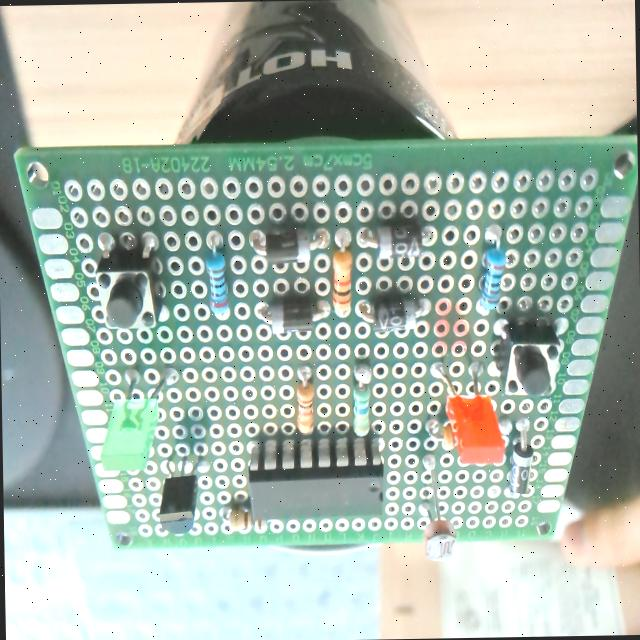IC: (246, 443, 386, 524)
cds: (418, 453, 457, 562)
diode: (256, 296, 330, 334), (253, 226, 324, 265), (357, 296, 429, 334), (356, 222, 422, 259), (508, 415, 534, 495)
led: (100, 367, 174, 472), (434, 356, 504, 464)
resistor: (347, 364, 376, 439), (477, 245, 508, 315), (292, 366, 320, 441), (330, 232, 353, 314), (205, 241, 229, 317)
switch: (94, 240, 162, 332), (494, 320, 562, 400)
transistor: (156, 455, 204, 536)
